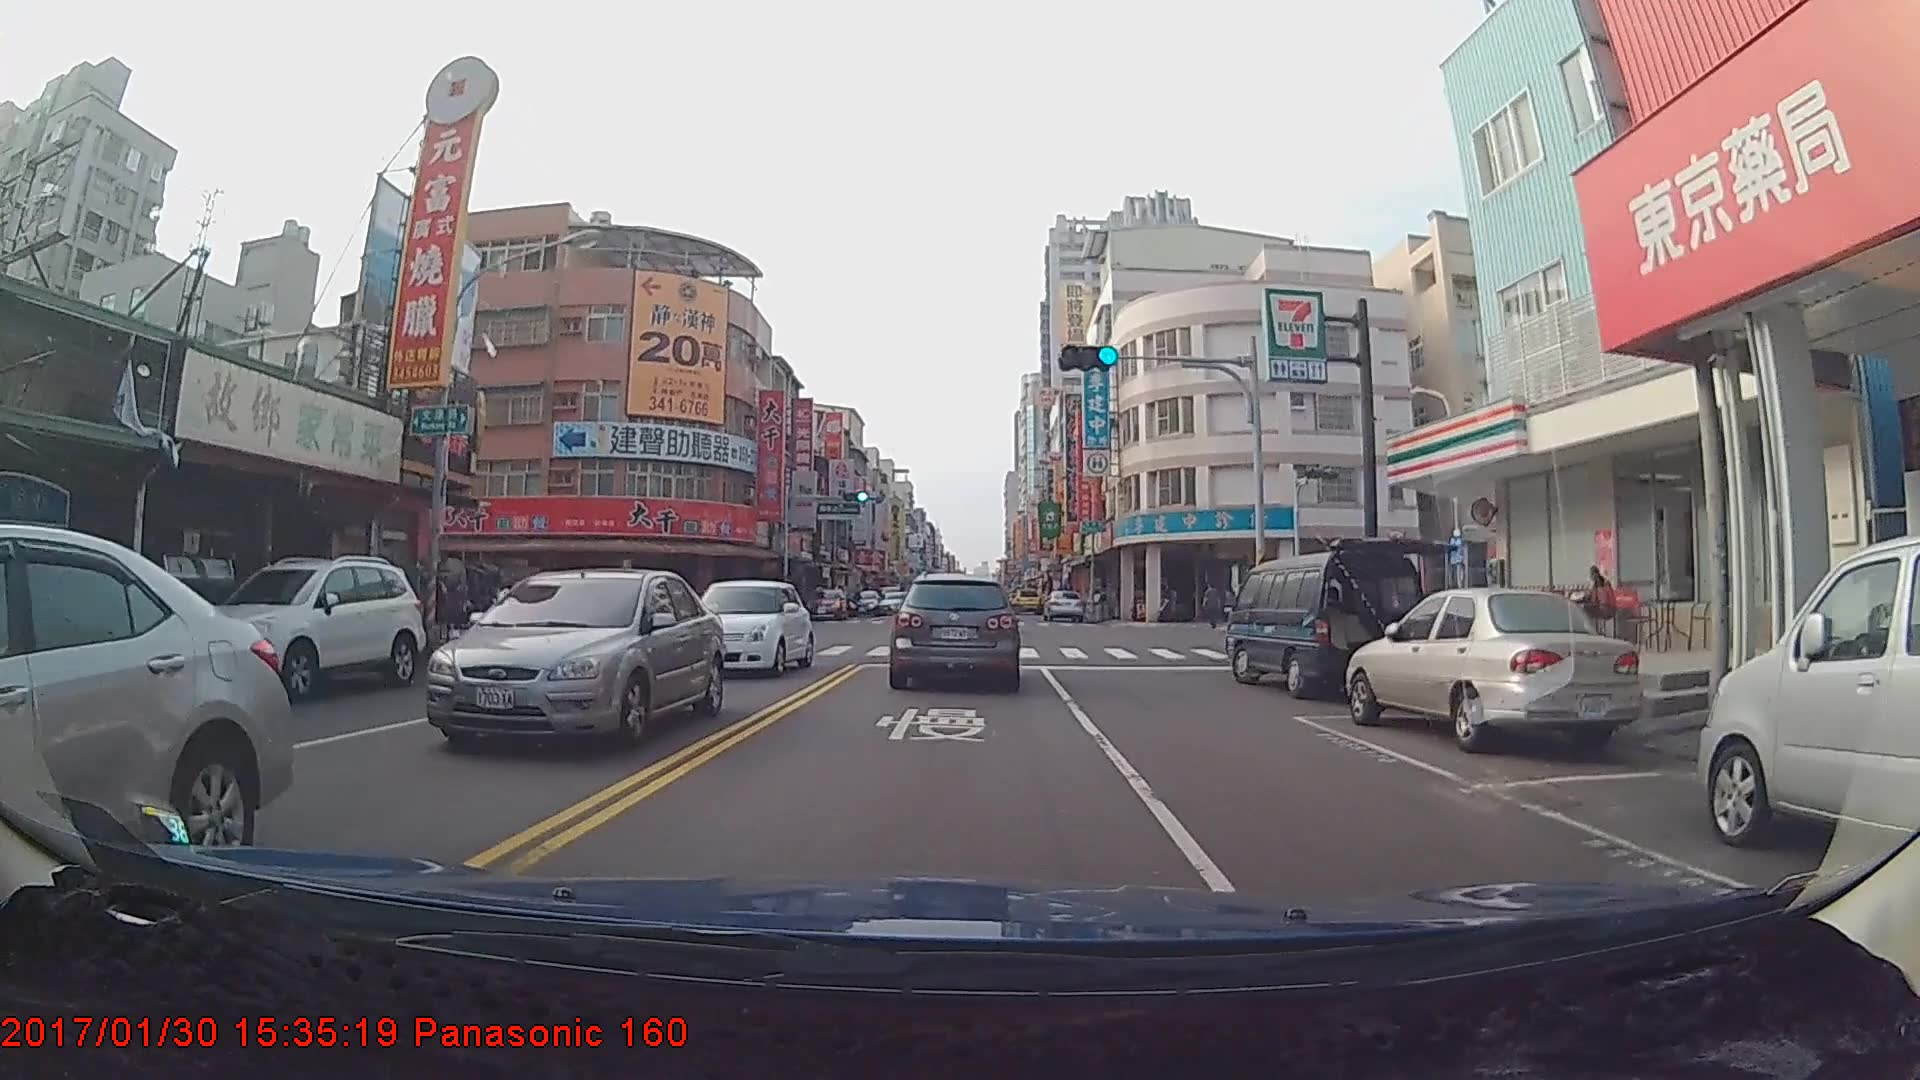pedestrian: (1204, 584, 1224, 633)
vehicle: (0, 530, 285, 944), (1698, 540, 1920, 860), (422, 565, 724, 752), (1347, 584, 1633, 750), (192, 549, 424, 700), (1224, 551, 1430, 700), (892, 572, 1021, 688), (678, 578, 812, 678), (1043, 588, 1084, 623), (807, 585, 847, 620), (846, 591, 882, 616), (1012, 587, 1041, 612)
